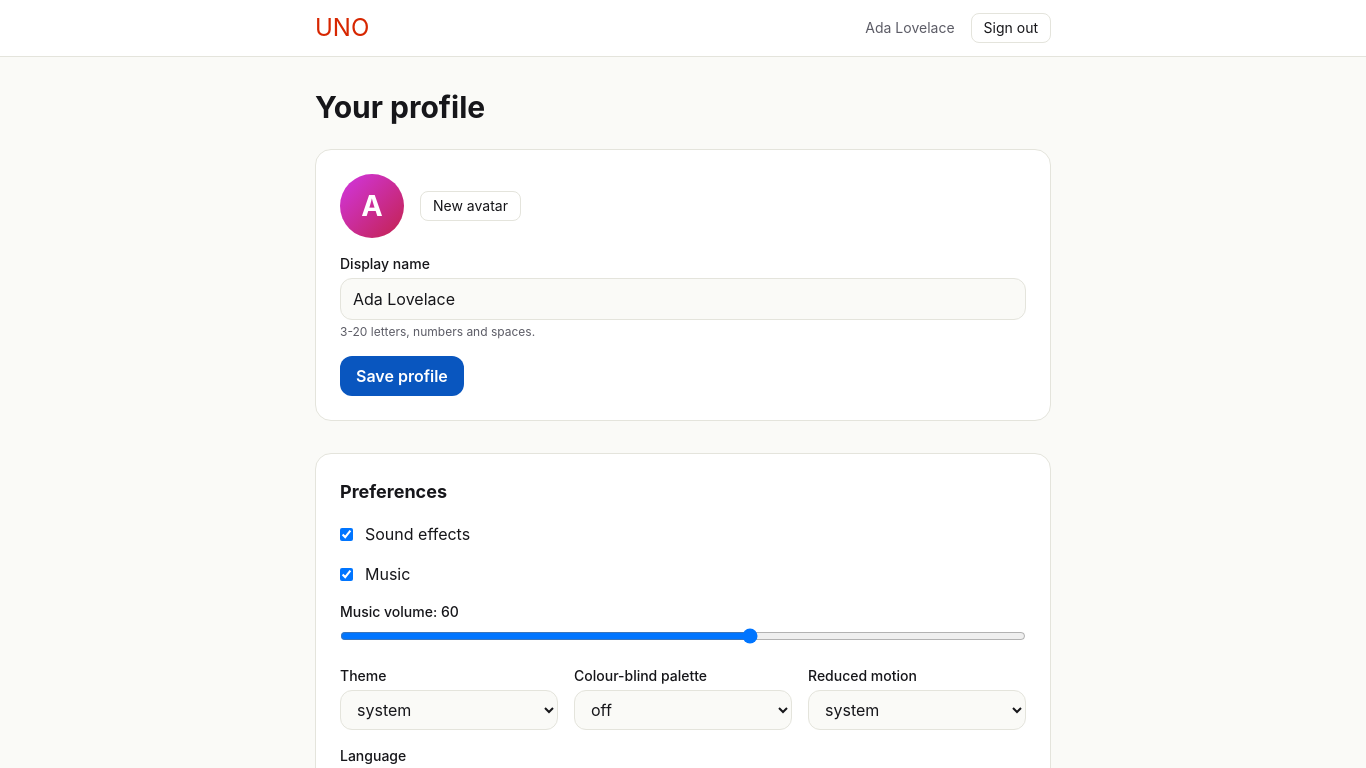
it: profile page › tells the player when the name is taken (409)
The width and height of the screenshot is (1366, 768).
Replace the text in the field labelled "Display name" with "Taken Name" at (683, 299), box x1=340 y1=278 x2=1026 y2=320
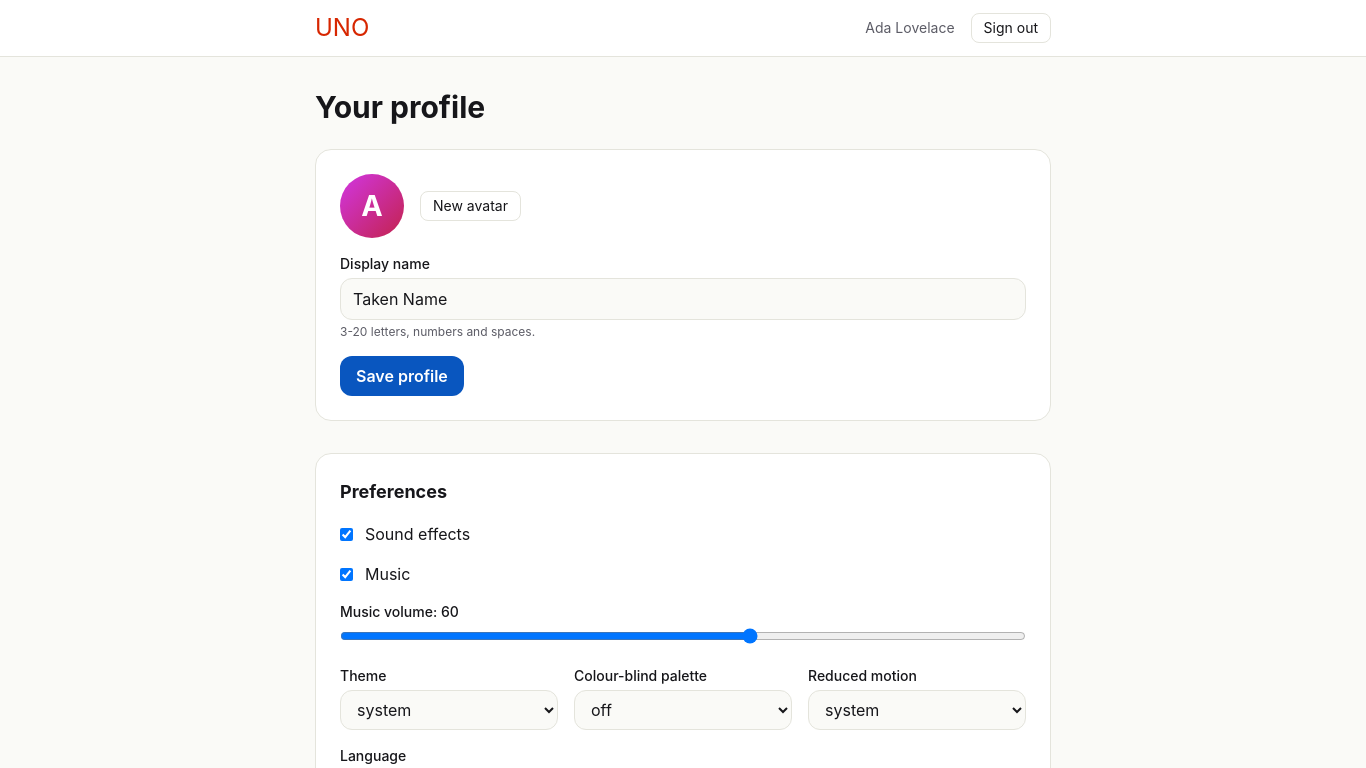
Click the button "Save profile" at (402, 376), box x1=340 y1=356 x2=464 y2=396
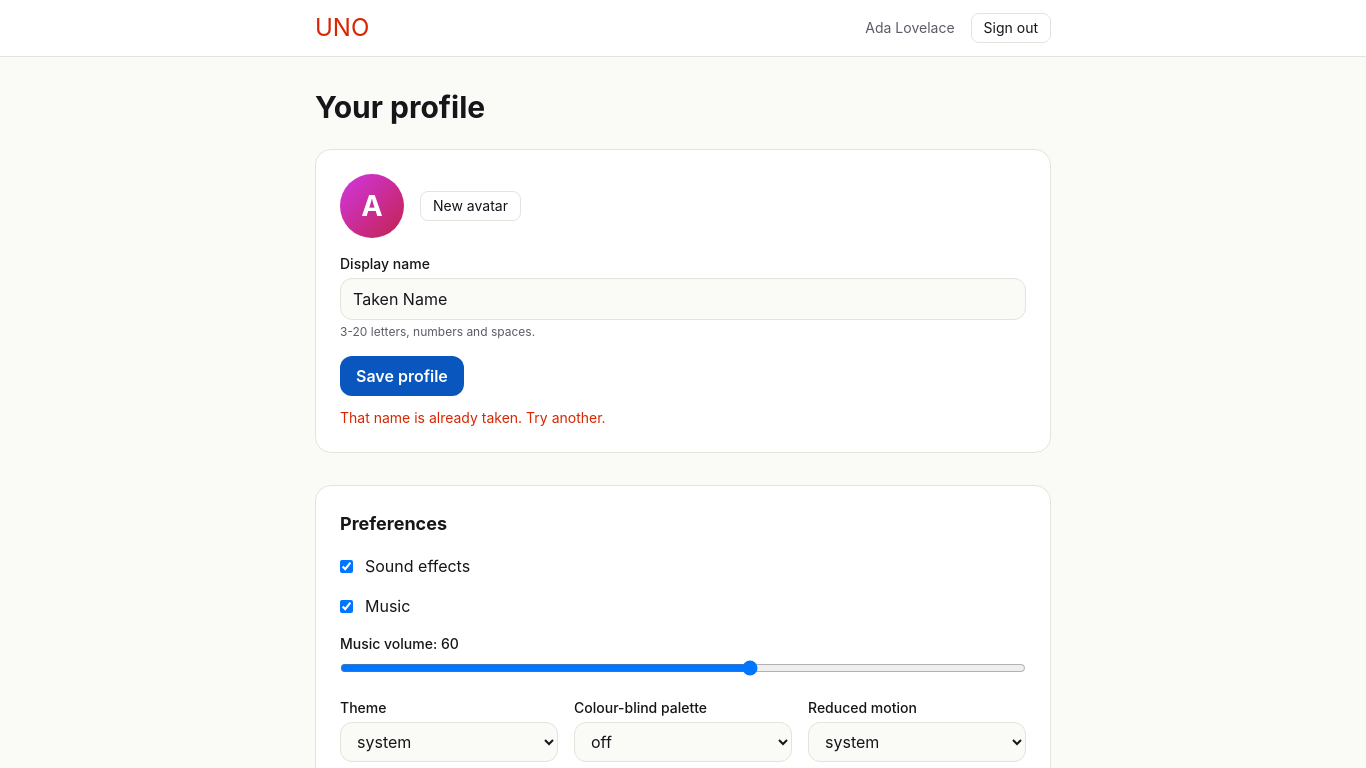
Now the message shows "already taken", box x1=340 y1=409 x2=606 y2=426
